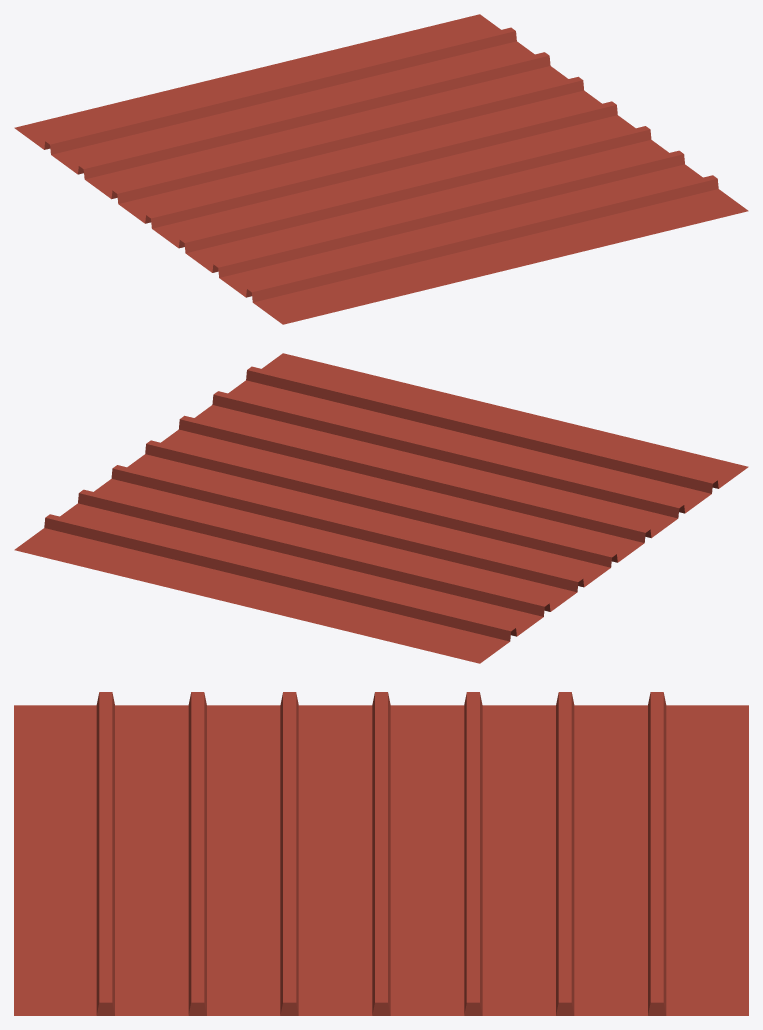
Rendered from Roof.fbx.
The picture shows the model from 3 angles, top to bottom: view 1: azimuth 30°, elevation 25°; view 2: azimuth 150°, elevation 25°; view 3: azimuth 270°, elevation 25°; orthographic projection. The views are drawn at different scales.
Visible parts, largest first — view 1: Roof; view 2: Roof; view 3: Roof.
Part boxes in pixels (x1,y1,x2,y2): Roof: (14, 14, 748, 324); Roof: (14, 353, 748, 663); Roof: (14, 692, 748, 1015).
Size of the model in its own units: 600 by 11.77 by 600.
